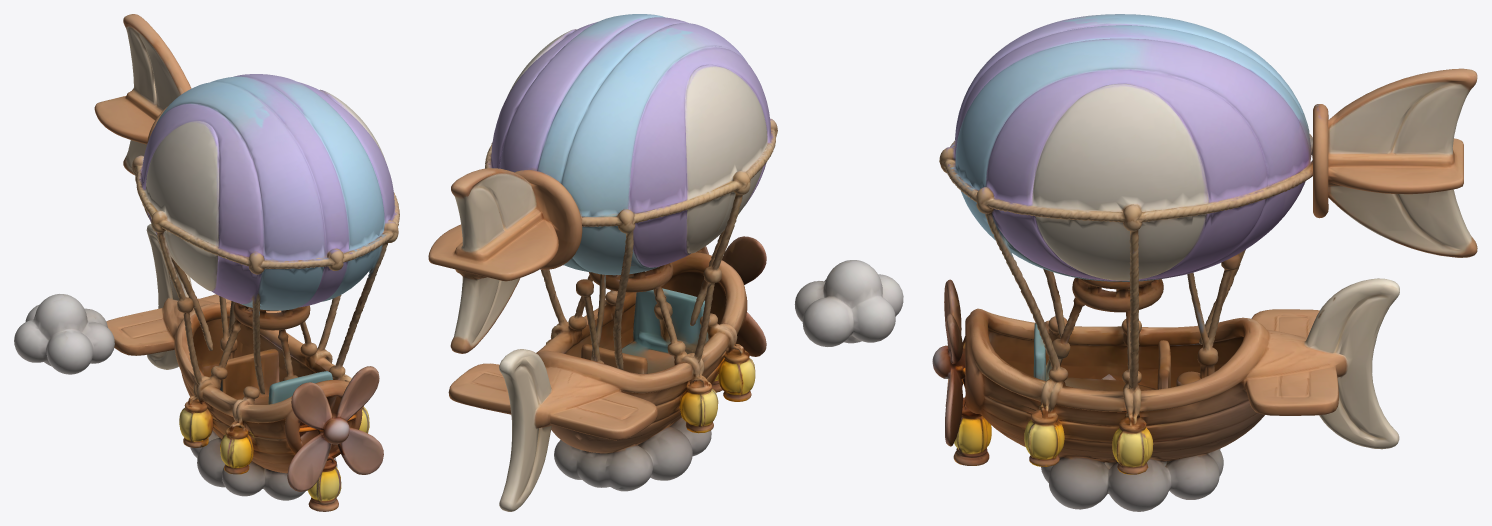
The model's file is small-cloud-airship-5.glb.
3 views of the same model, side by side, from view 1: azimuth 30°, elevation 25°; view 2: azimuth 150°, elevation 25°; view 3: azimuth 270°, elevation 25° (orthographic). The views are drawn at different scales.
Parts seen in each view (by area): view 1: node_0; view 2: node_0; view 3: node_0.
Part boxes in pixels (box(x1,y1,x2,y2)): node_0: box(14, 14, 399, 511); node_0: box(428, 14, 903, 511); node_0: box(932, 14, 1477, 511).
Bounding box in the file's own units: 0.8201 × 0.8486 × 0.9078.
Materials: 1 (1 with a texture image).
